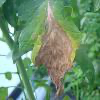Tomato mold leaf: (17, 2, 80, 99)
